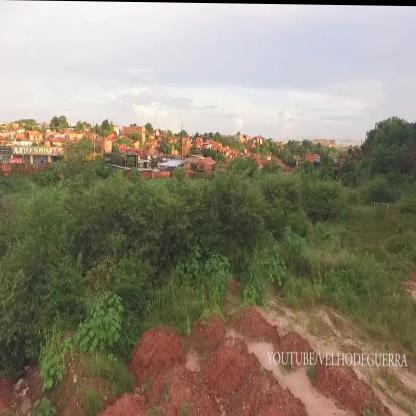agua: (244, 330, 276, 365)
